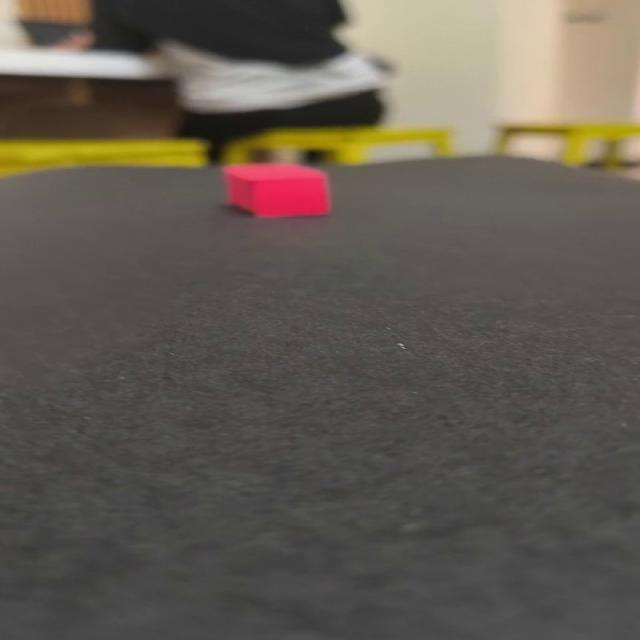red block: (221, 162, 332, 218)
